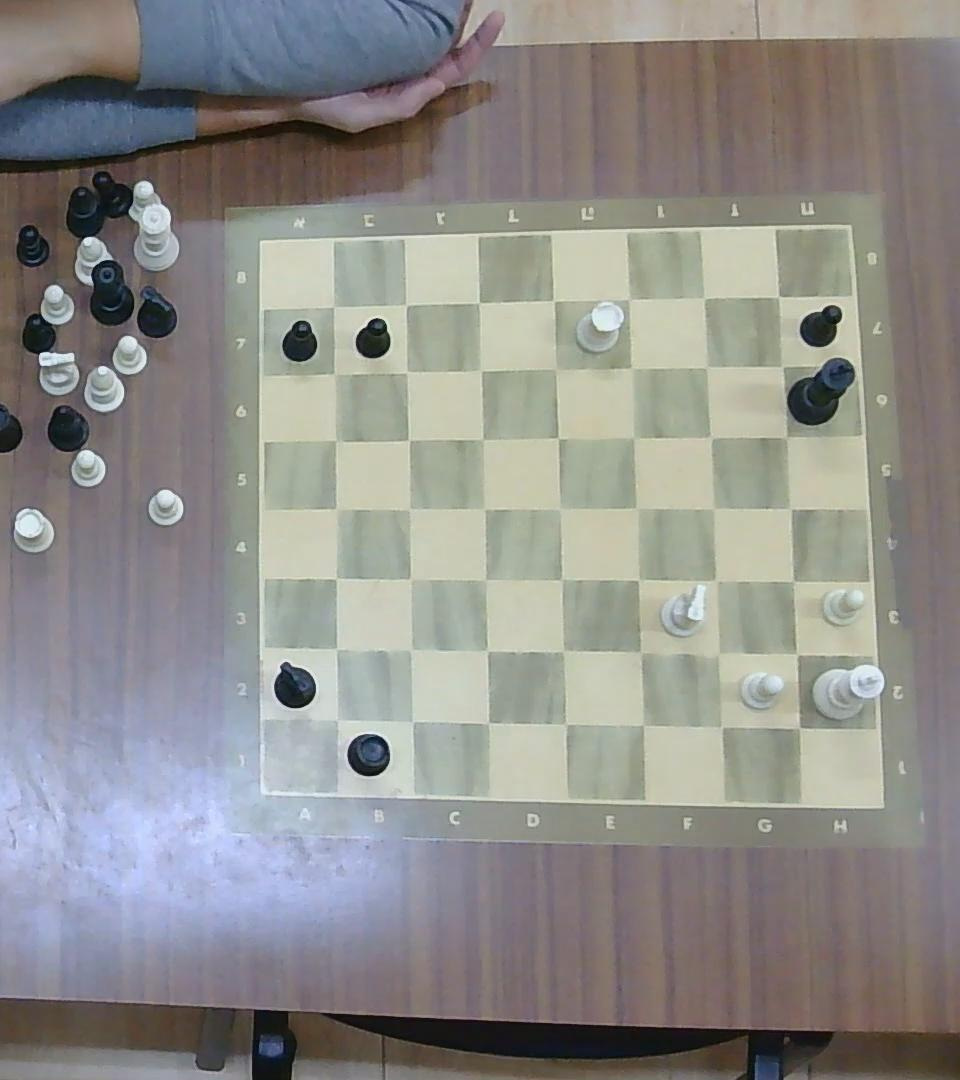xcorner: (781, 711, 815, 743), (702, 636, 734, 669), (626, 707, 658, 740), (705, 708, 736, 742), (548, 706, 580, 738), (781, 637, 812, 668), (321, 703, 352, 734), (625, 635, 655, 667), (622, 562, 652, 594), (548, 635, 578, 667), (472, 706, 502, 737), (698, 492, 728, 523), (622, 492, 652, 523), (396, 705, 427, 735), (471, 636, 501, 666), (700, 565, 730, 595), (547, 563, 576, 594), (470, 564, 500, 593), (615, 284, 645, 313), (776, 493, 806, 522), (470, 493, 499, 522), (395, 635, 424, 664), (543, 353, 572, 382), (619, 351, 648, 380), (777, 566, 807, 594), (547, 493, 575, 522), (545, 422, 573, 451), (621, 422, 649, 451), (691, 282, 719, 311), (693, 351, 721, 380), (540, 284, 568, 313), (769, 351, 797, 380), (323, 495, 351, 523), (395, 565, 424, 592), (466, 354, 495, 381), (395, 425, 423, 452), (468, 424, 495, 452), (322, 636, 350, 663), (772, 421, 800, 448), (465, 288, 493, 315), (396, 494, 423, 521), (698, 423, 725, 450), (323, 564, 349, 592), (323, 425, 349, 452), (393, 358, 420, 383), (393, 291, 419, 316), (323, 360, 348, 385), (767, 284, 791, 309), (323, 295, 345, 318)
